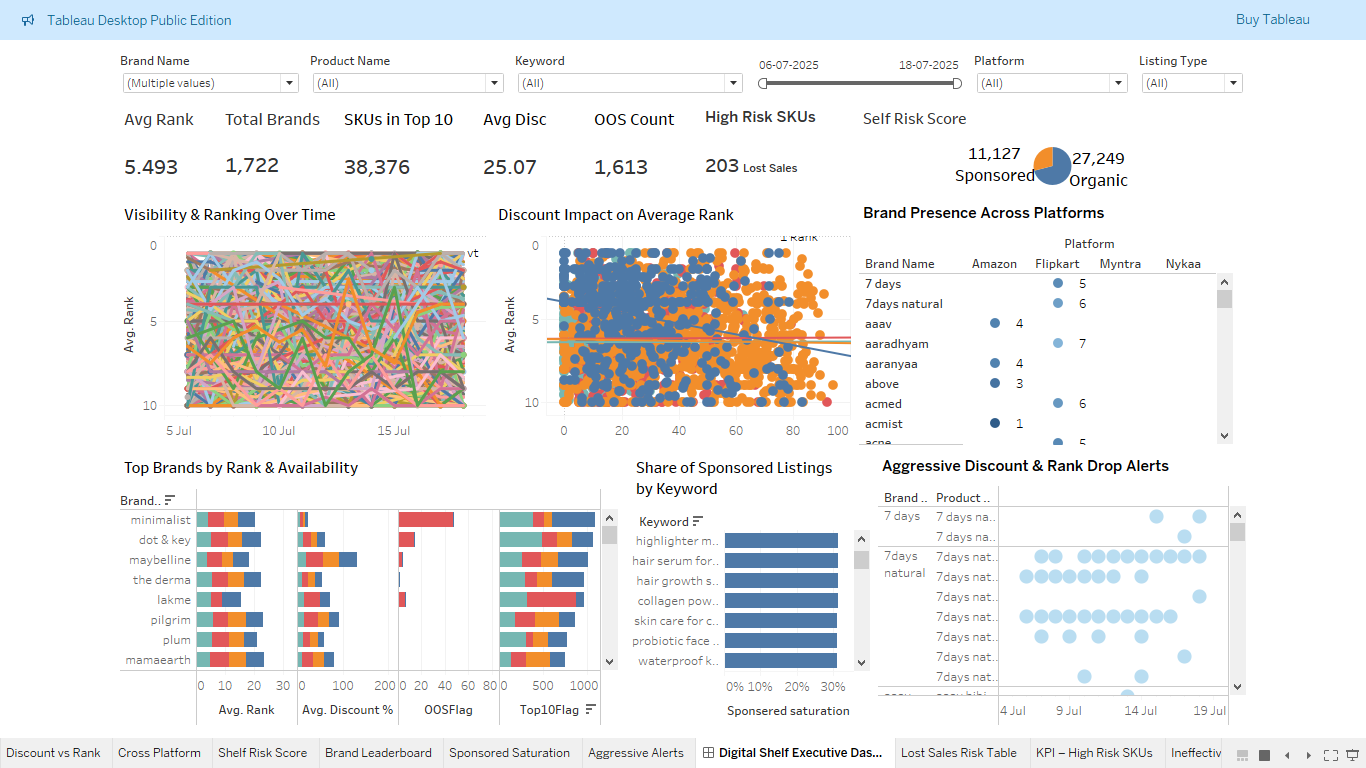

Layout of this report page (visuals, bound fields, positions):
{"tool":"tableau","page":{"name":"Digital Shelf Executive Dashboard","canvas":[1000,1000],"units":"permille","ordinal":0},"visuals":[{"type":"filter","title":"Visibility & Ranking","param":"[federated.0k0028c1y020bw14otmxn14tl1lj].[none:brand_name:nk]","box":[7,12.1,165,74.1]},{"type":"filter","title":"Aggressive Alerts","param":"[federated.0k0028c1y020bw14otmxn14tl1lj].[none:product_name:nk]","box":[172,12.1,178.2,74.1]},{"type":"filter","title":"Visibility & Ranking","param":"[federated.0k0028c1y020bw14otmxn14tl1lj].[none:keyword:nk]","box":[350.2,12.1,208,74.1]},{"type":"filter","title":"Aggressive Alerts","param":"[federated.0k0028c1y020bw14otmxn14tl1lj].[none:date:qk]","box":[558.3,12.1,191.5,74.1]},{"type":"filter","title":"Visibility & Ranking","param":"[federated.0k0028c1y020bw14otmxn14tl1lj].[none:platform:nk]","box":[749.7,12.1,143.1,74.1]},{"type":"filter","title":"Aggressive Alerts","param":"[federated.0k0028c1y020bw14otmxn14tl1lj].[none:listing_type:nk]","box":[892.8,12.1,100.2,74.1]},{"type":"worksheet","title":"KPI - Avg Rank","mark":"Automatic","box":[7,86.2,88.7,137.9]},{"type":"worksheet","title":"KPI - Total Brands","mark":"Automatic","box":[95.7,86.2,104.5,137.9]},{"type":"worksheet","title":"KPI - SKUs in Top 10","mark":"Automatic","box":[200.2,86.2,116.8,137.9]},{"type":"worksheet","title":"KPI - Avg Discount","mark":"Automatic","box":[319.5,86.2,96.1,137.9]},{"type":"worksheet","title":"KPI - OOS Count","mark":"Automatic","box":[415.6,86.2,96.1,137.9]},{"type":"worksheet","title":"KPI – High Risk SKUs","mark":"Automatic","box":[511.7,86.2,137.9,137.9]},{"type":"worksheet","title":"Shelf Risk Score","mark":"Pie","box":[649.6,86.2,343.4,137.9]},{"type":"worksheet","title":"Visibility & Ranking","mark":"Automatic","rows":["rank"],"cols":["date"],"box":[7,224.1,325.6,362.1]},{"type":"worksheet","title":"Discount vs Rank","mark":"Automatic","rows":["rank"],"cols":["Calculation_905786507841253380"],"box":[332.6,224.1,317,362.1]},{"type":"worksheet","title":"Cross Platform","mark":"Circle","rows":["brand_name"],"cols":["platform"],"box":[649.6,224.1,343.4,362.1]},{"type":"worksheet","title":"Brand Leaderboard","mark":"Automatic","rows":["brand_name"],"cols":["rank","Calculation_905786507841253380","Calculation_905786507837890561","Calculation_905786507837788160"],"box":[7,586.2,445,401.7]},{"type":"worksheet","title":"Sponsored Saturation","mark":"Automatic","rows":["keyword"],"cols":["Calculation_905786507849695241"],"box":[452.1,586.2,214.3,401.7]},{"type":"worksheet","title":"Aggressive Alerts","mark":"Circle","rows":["brand_name","product_name"],"cols":["date"],"box":[666.3,586.2,326.7,401.7]}]}

Visuals, with their boxes on the dashboard's canvas, which has no fixed pixel size, in thousandths of its width and height (x1, y1, x2, y2). These are canvas units, not pixel positions in the 1366x768 screenshot, which may show the page scaled, cropped or inside an application window:
"Visibility & Ranking" filter: 7, 12, 172, 86
"Aggressive Alerts" filter: 172, 12, 350, 86
"Visibility & Ranking" filter: 350, 12, 558, 86
"Aggressive Alerts" filter: 558, 12, 750, 86
"Visibility & Ranking" filter: 750, 12, 893, 86
"Aggressive Alerts" filter: 893, 12, 993, 86
"KPI - Avg Rank" worksheet: 7, 86, 96, 224
"KPI - Total Brands" worksheet: 96, 86, 200, 224
"KPI - SKUs in Top 10" worksheet: 200, 86, 317, 224
"KPI - Avg Discount" worksheet: 320, 86, 416, 224
"KPI - OOS Count" worksheet: 416, 86, 512, 224
"KPI – High Risk SKUs" worksheet: 512, 86, 650, 224
"Shelf Risk Score" worksheet (Pie marks): 650, 86, 993, 224
"Visibility & Ranking" worksheet: 7, 224, 333, 586
"Discount vs Rank" worksheet: 333, 224, 650, 586
"Cross Platform" worksheet (Circle marks): 650, 224, 993, 586
"Brand Leaderboard" worksheet: 7, 586, 452, 988
"Sponsored Saturation" worksheet: 452, 586, 666, 988
"Aggressive Alerts" worksheet (Circle marks): 666, 586, 993, 988
